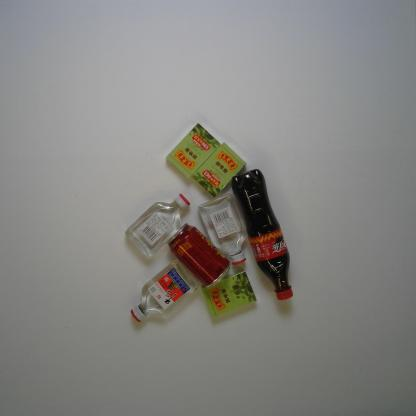Alcohol: (124, 193, 192, 258), (129, 259, 198, 323), (197, 192, 247, 266)
Candy: (165, 122, 222, 180), (191, 141, 247, 198), (201, 270, 258, 319)
Drink: (230, 167, 296, 302), (166, 221, 232, 289)
